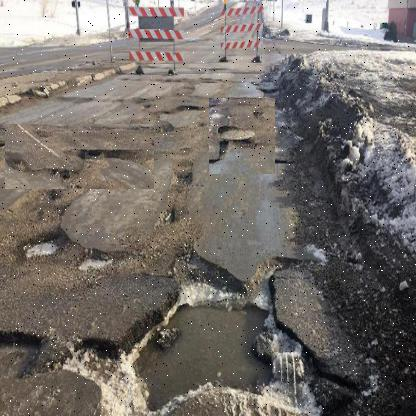damage: (4, 124, 154, 190), (208, 98, 275, 175)
pothole: (81, 251, 338, 415)
